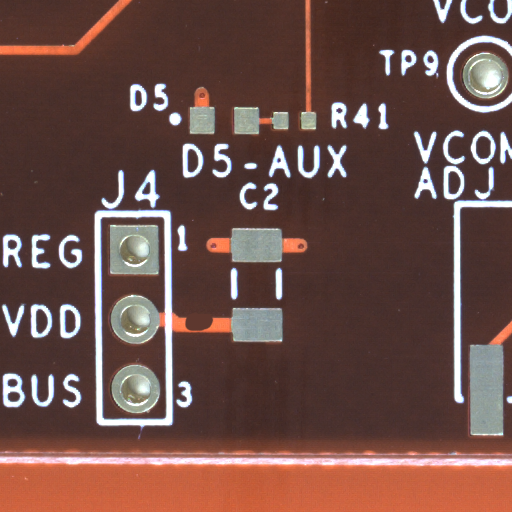Mouse_bite: (199, 322, 232, 348)
